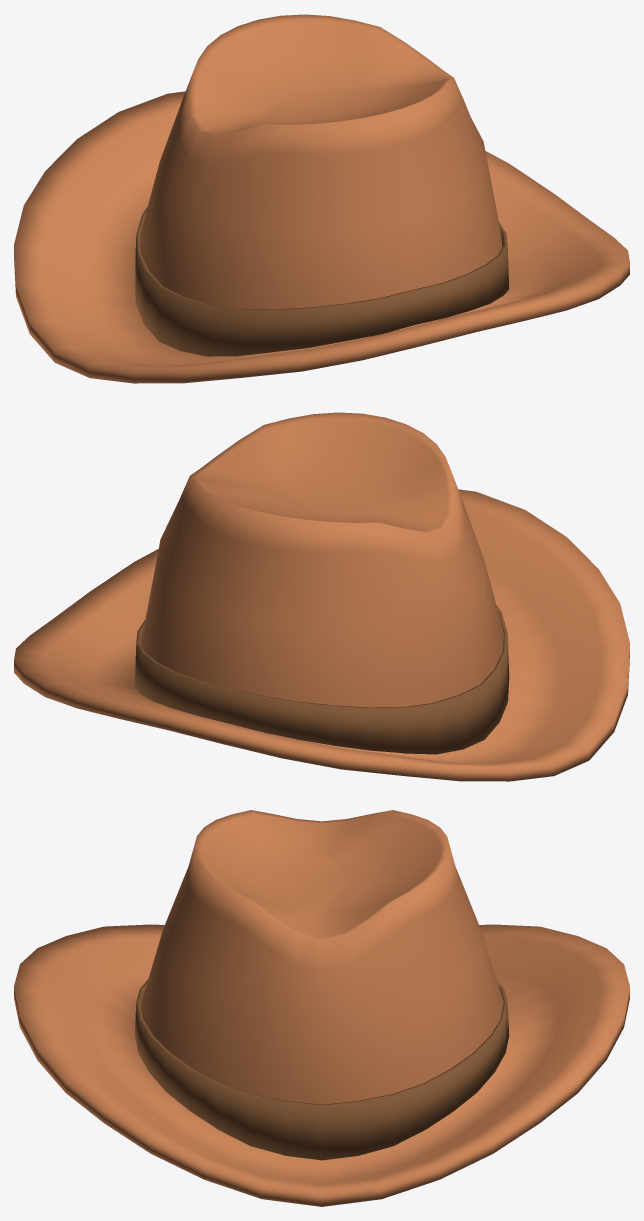
File: cowboyHat.fbx
3 renders of one model, top to bottom at view 1: azimuth 30°, elevation 25°; view 2: azimuth 150°, elevation 25°; view 3: azimuth 270°, elevation 25°, orthographic.
Visible parts, largest first — view 1: cowboyHat; view 2: cowboyHat; view 3: cowboyHat.
Part boxes in pixels (left/top/right/bottom): cowboyHat: left=14, top=14, right=629, bottom=383; cowboyHat: left=14, top=412, right=629, bottom=781; cowboyHat: left=14, top=810, right=629, bottom=1206.
Bounding box in the file's own units: 50.24 × 21.95 × 50.24.
